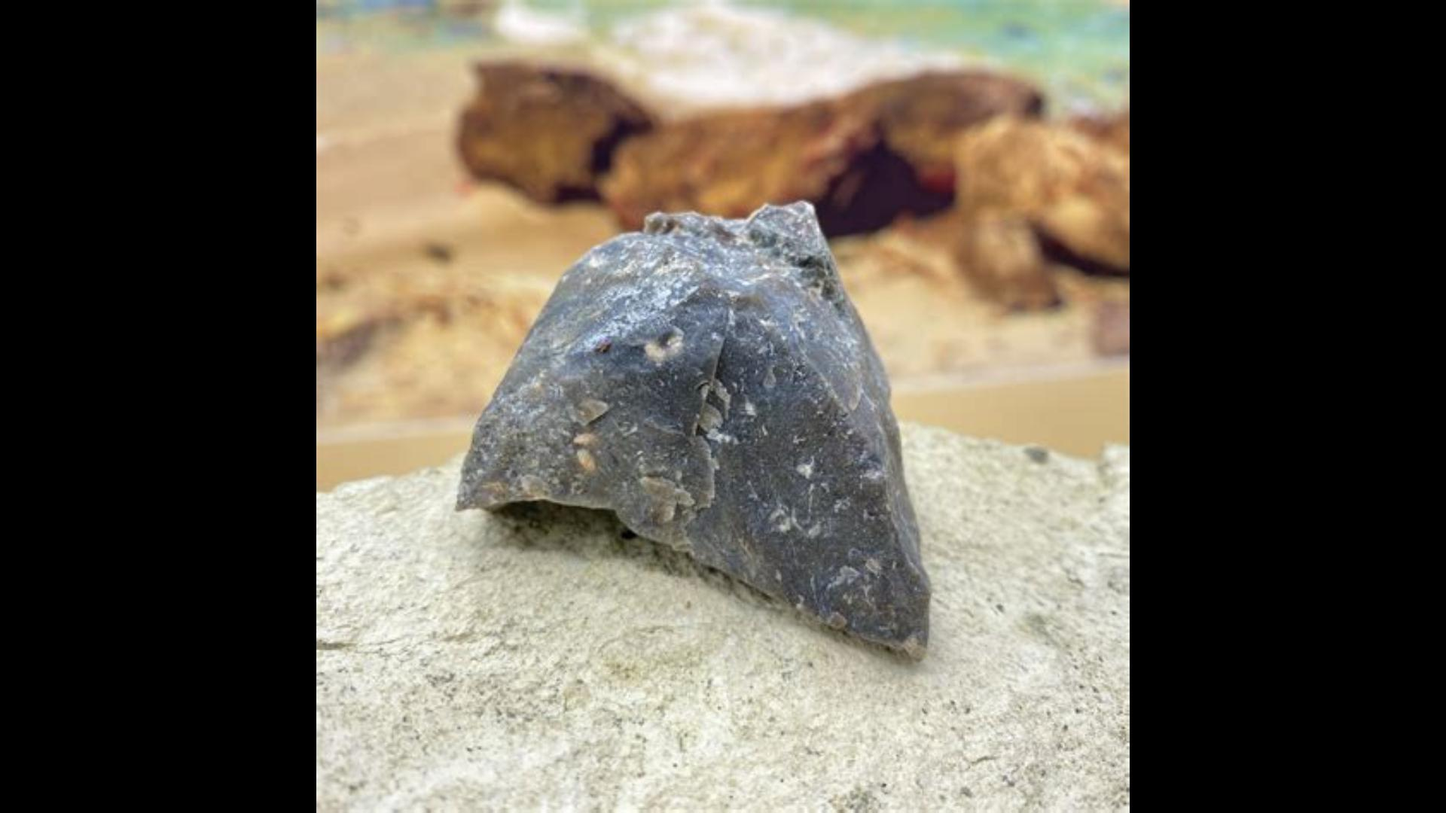rock: (457, 206, 929, 655)
